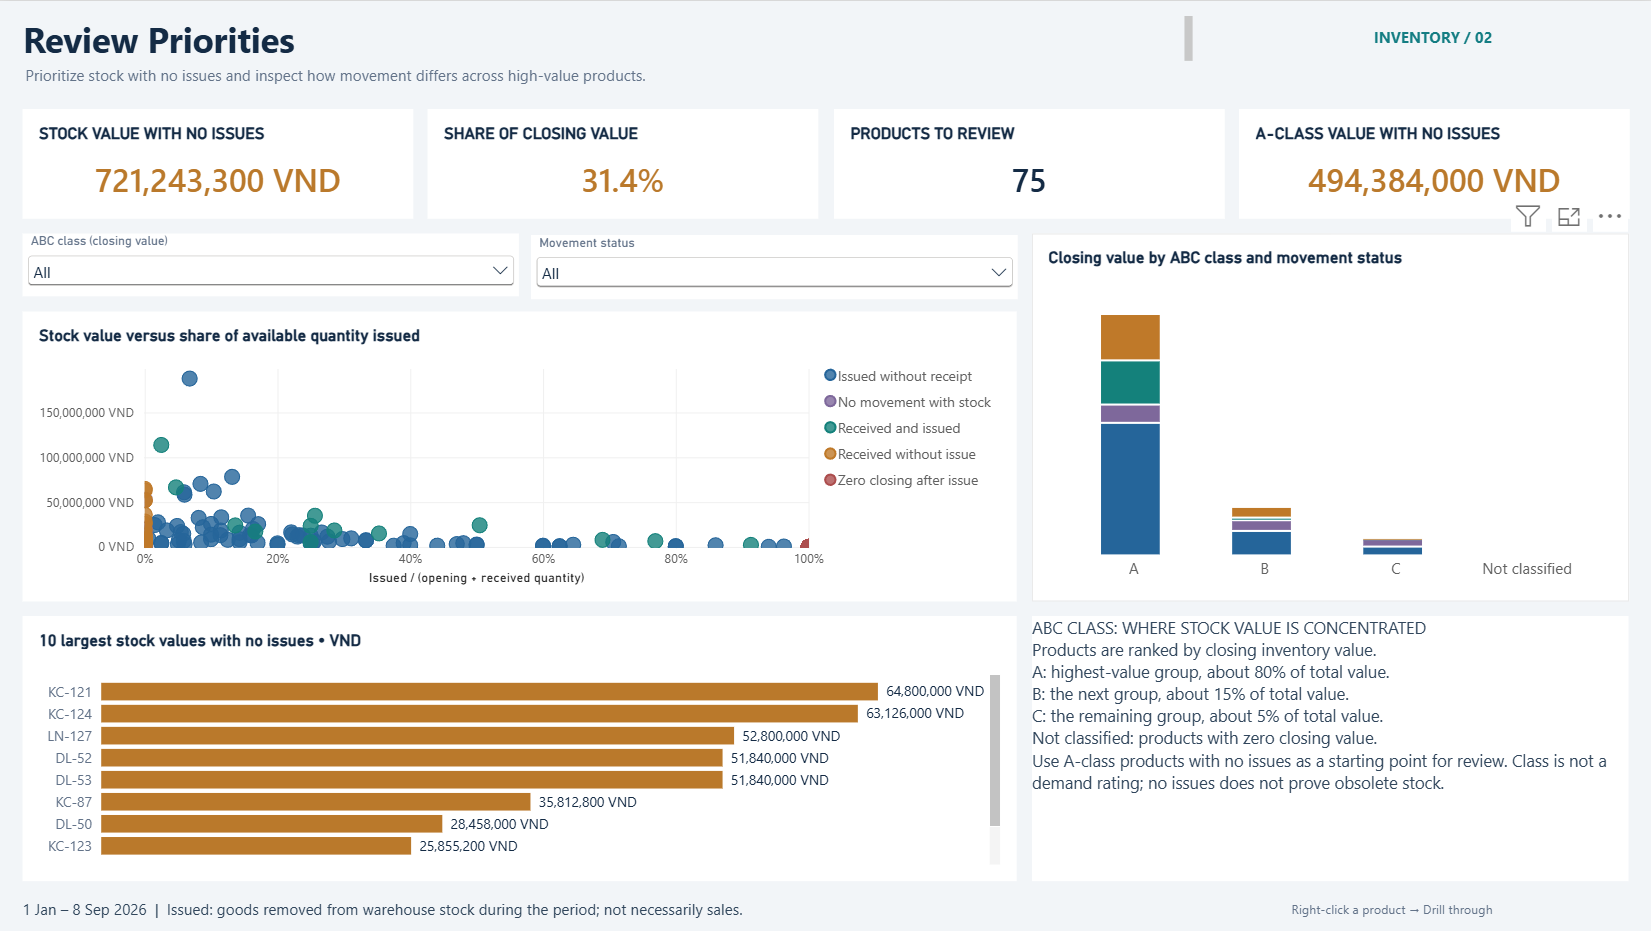

This screenshot's page, from the dashboard's own definition file:
{"tool":"powerbi","page":{"name":"Review Priorities","canvas":[1600,900],"ordinal":1},"visuals":[{"type":"textbox","box":[24,14,1130,44],"z":0},{"type":"textbox","box":[27,61,1280,29],"z":100},{"type":"textbox","box":[1330,24,245,28],"z":200},{"type":"textbox","box":[24,866,1250,24],"z":300},{"type":"textbox","box":[1250,866,326,24],"z":400},{"type":"card","title":"STOCK VALUE WITH NO ISSUES","fields":{"Values":["inventory_status.Value with No Issues"]},"box":[24,104,377,106],"z":500},{"type":"card","title":"SHARE OF CLOSING VALUE","fields":{"Values":["inventory_status.Value with No Issues %"]},"box":[416,104,377,106],"z":600},{"type":"card","title":"PRODUCTS TO REVIEW","fields":{"Values":["inventory_status.Products with No Issues"]},"box":[808,104,377,106],"z":700},{"type":"card","title":"A-CLASS VALUE WITH NO ISSUES","fields":{"Values":["inventory_status.A Class Value with No Issues"]},"box":[1200,104,377,106],"z":800},{"type":"slicer","fields":{"Values":["inventory_status.ABC Class"]},"box":[24.6,224.5,479.4,60.8],"z":900},{"type":"slicer","fields":{"Values":["inventory_status.inventory_status"]},"box":[515.6,226,470,62],"z":1000},{"type":"scatterChart","title":"Stock value versus share of available quantity issued","fields":{"Category":["inventory_status.product_code"],"Series":["inventory_status.inventory_status"],"X":["inventory_status.Share of Available Quantity Issued"],"Y":["inventory_status.Closing Inventory Value"]},"box":[24,300,960,280],"z":1200},{"type":"columnChart","title":"Closing value by ABC class and movement status","fields":{"Category":["inventory_status.ABC Class"],"Series":["inventory_status.inventory_status"],"Y":["inventory_status.Closing Inventory Value"]},"box":[999.4,224.5,576.5,354.9],"z":1300},{"type":"clusteredBarChart","title":"10 largest stock values with no issues • VND","fields":{"Category":["inventory_status.product_code"],"Y":["inventory_status.Value with No Issues"]},"box":[24,594,960,256],"z":1400},{"type":"textbox","box":[1000,594,576,256],"z":1500}]}

Visuals, with their boxes in screenshot pixels (x1, y1, x2, y2), scaled from the page's 1600x900 canvas onto the 1651x931 screenshot:
textbox: Rect(25, 14, 1191, 60)
textbox: Rect(28, 63, 1349, 93)
textbox: Rect(1372, 25, 1625, 54)
textbox: Rect(25, 896, 1315, 921)
textbox: Rect(1290, 896, 1626, 921)
"STOCK VALUE WITH NO ISSUES" card: Rect(25, 108, 414, 217)
"SHARE OF CLOSING VALUE" card: Rect(429, 108, 818, 217)
"PRODUCTS TO REVIEW" card: Rect(834, 108, 1223, 217)
"A-CLASS VALUE WITH NO ISSUES" card: Rect(1238, 108, 1627, 217)
slicer - inventory_status.ABC Class: Rect(25, 232, 520, 295)
slicer - inventory_status.inventory_status: Rect(532, 234, 1017, 298)
"Stock value versus share of available quantity issued" scatterChart: Rect(25, 310, 1015, 600)
"Closing value by ABC class and movement status" columnChart: Rect(1031, 232, 1626, 599)
"10 largest stock values with no issues • VND" clusteredBarChart: Rect(25, 614, 1015, 879)
textbox: Rect(1032, 614, 1626, 879)
